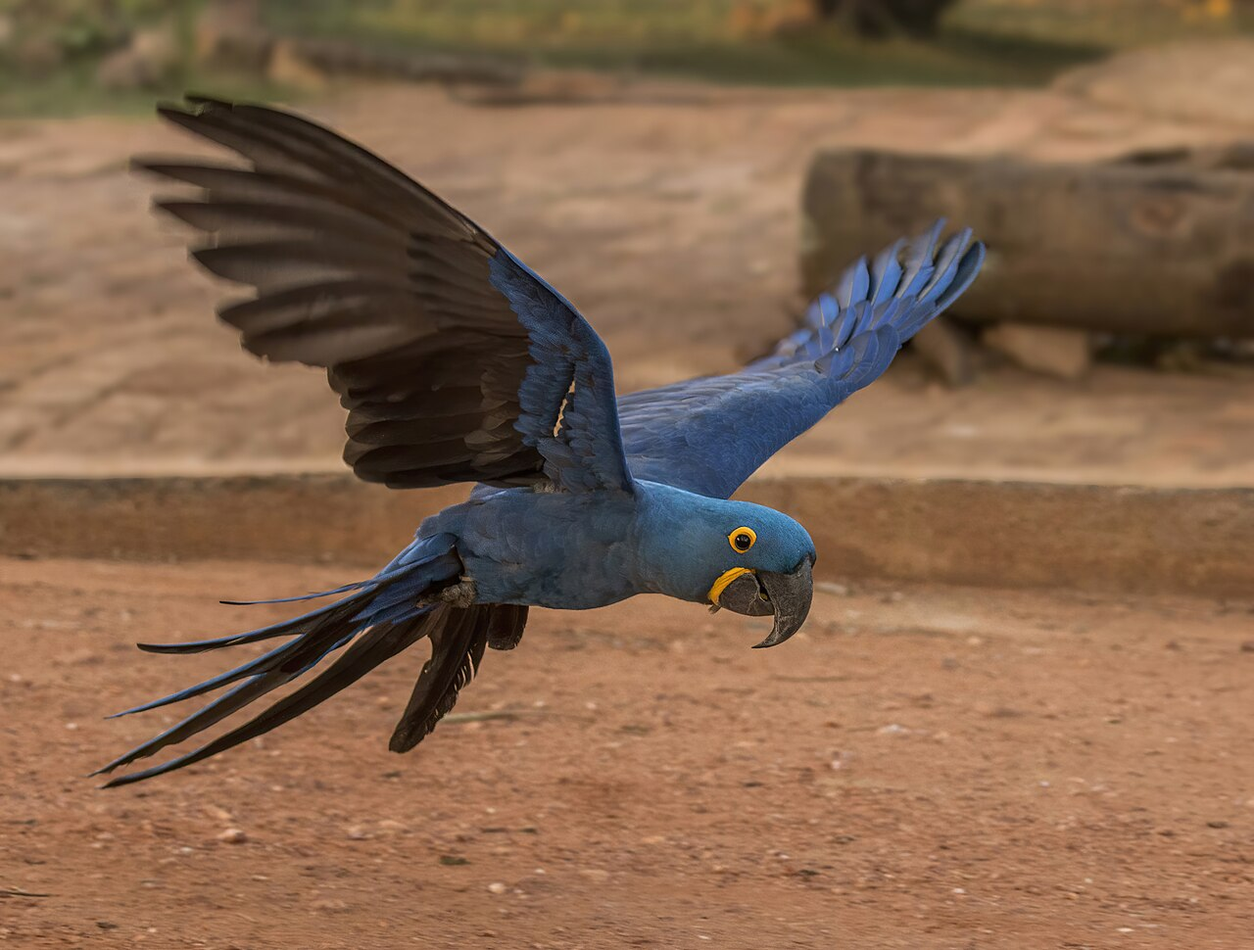bird: (85, 92, 988, 789)
